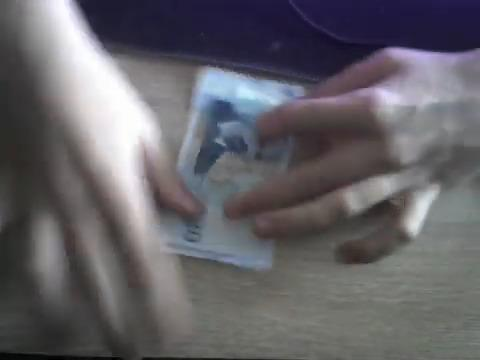20leva: (178, 67, 314, 266)
